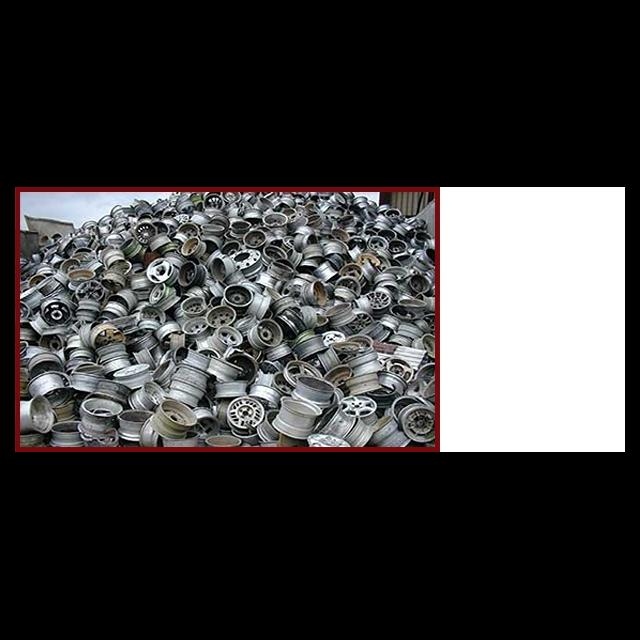metal: (267, 396, 325, 444), (146, 397, 202, 438), (22, 369, 75, 406), (72, 396, 126, 432), (222, 392, 268, 431), (345, 352, 400, 384), (285, 372, 336, 406), (15, 392, 57, 433), (88, 344, 136, 379), (393, 404, 436, 442), (215, 278, 260, 314), (81, 320, 129, 352), (245, 316, 285, 354), (141, 280, 187, 312), (203, 352, 252, 382), (110, 408, 157, 439), (334, 392, 381, 420), (289, 332, 330, 364), (226, 244, 267, 276), (175, 310, 215, 342), (107, 361, 157, 386), (168, 362, 216, 388), (22, 350, 66, 378), (296, 276, 334, 308), (141, 256, 179, 286), (164, 378, 207, 404), (207, 322, 245, 350), (206, 250, 239, 282), (174, 232, 209, 262), (329, 270, 366, 298), (62, 264, 100, 290), (72, 278, 109, 304), (407, 326, 436, 359), (153, 314, 181, 348), (126, 218, 162, 244), (38, 298, 73, 324), (324, 298, 359, 324), (363, 286, 397, 312), (17, 282, 44, 314), (361, 230, 397, 254), (253, 268, 285, 294), (336, 256, 368, 282), (112, 235, 145, 258), (99, 298, 133, 320), (345, 308, 376, 330), (129, 330, 158, 352), (290, 228, 318, 250)
